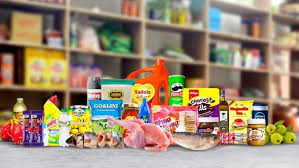saffola: (122, 57, 176, 113)
